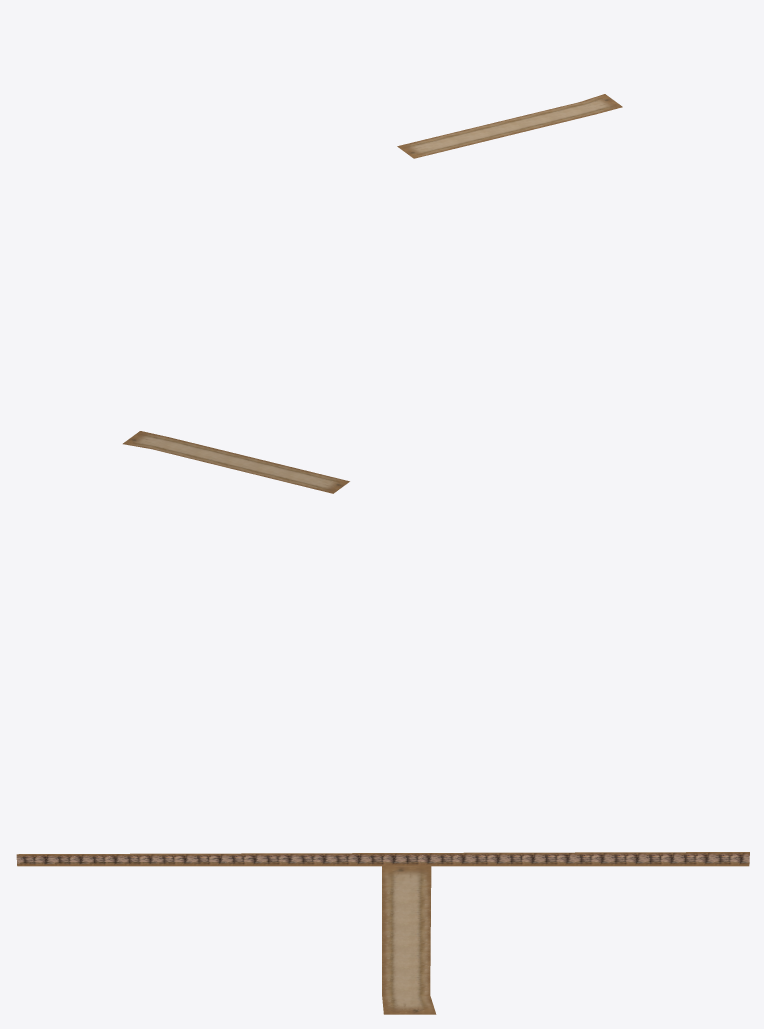
The picture shows the model from 3 angles, top to bottom: view 1: azimuth 30°, elevation 25°; view 2: azimuth 150°, elevation 25°; view 3: azimuth 270°, elevation 25°; orthographic projection. The views are drawn at different scales.
Visible parts, largest first — view 1: d4; view 2: d4; view 3: d4.
Boxes of the visible parts, box(x1,y1,x2,y2) form: d4: box(397, 94, 622, 158); d4: box(123, 431, 349, 493); d4: box(16, 852, 749, 1014).
Size of the model in its own units: 33028 by 652 by 30055.
5 materials, 5 textured.
